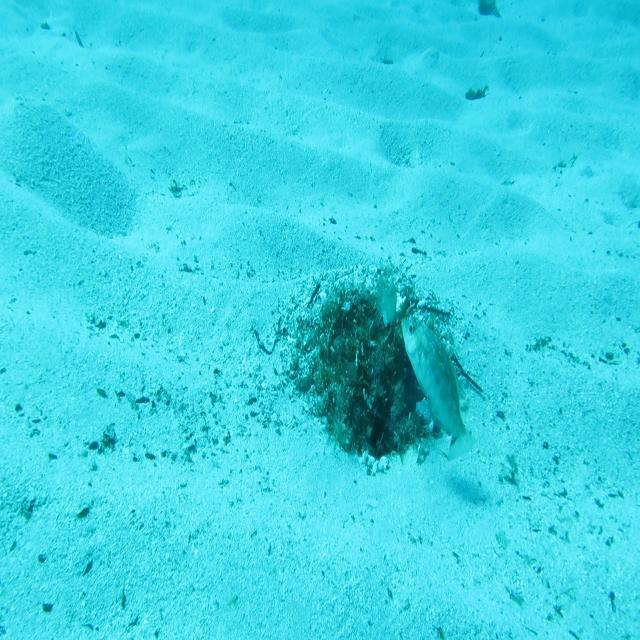GB: (401, 316, 478, 464)
core_nest: (347, 303, 405, 356)
female: (373, 266, 398, 335)
nest: (265, 248, 475, 489)
vegetation: (477, 0, 503, 25), (462, 85, 490, 105)
